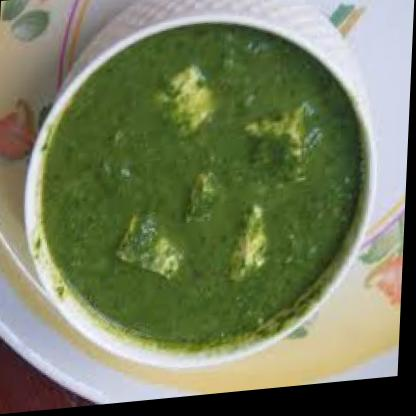palak_paneer: (36, 14, 367, 358)
